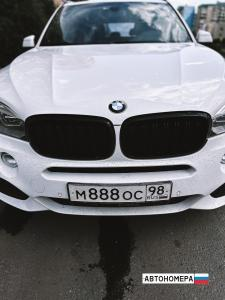license-plateSW: (70, 183, 173, 205)
